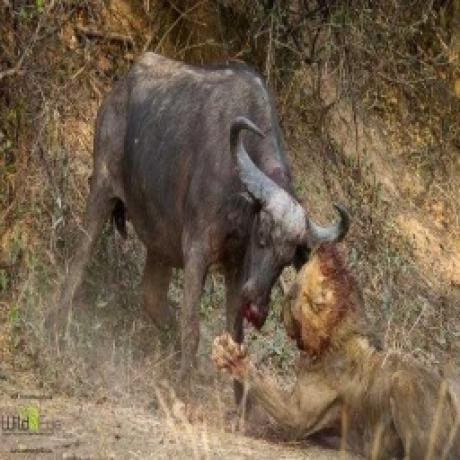Lion: (219, 241, 460, 458)
